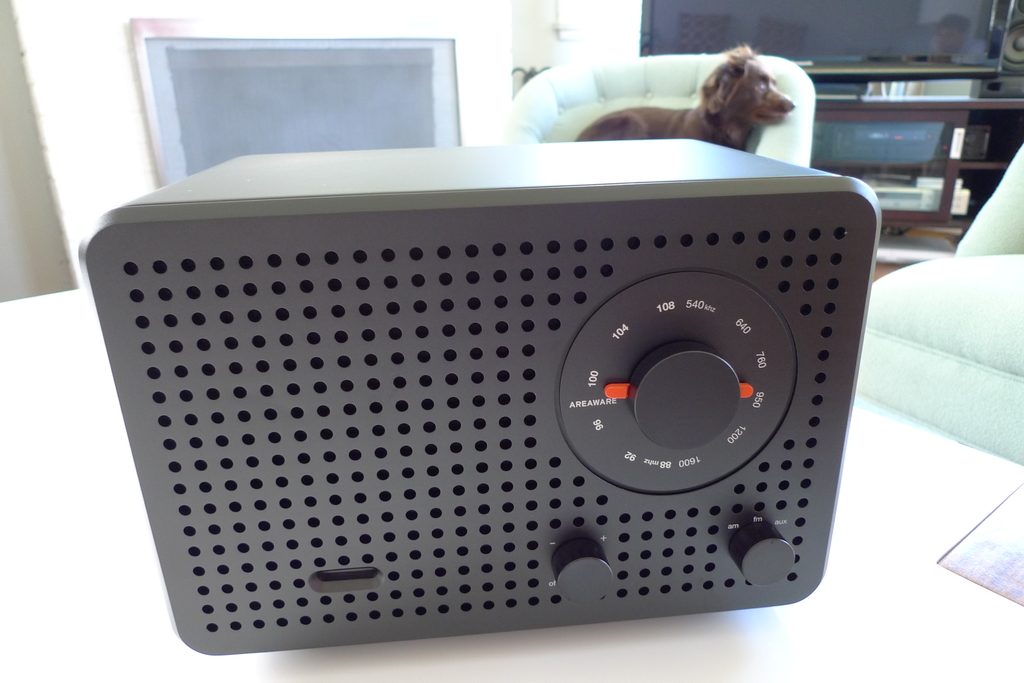Table: (0, 287, 1023, 682)
